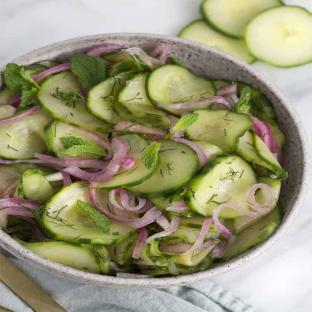Cucumber: (43, 181, 135, 244), (185, 155, 257, 216), (38, 71, 110, 131), (246, 6, 311, 67), (129, 141, 198, 198), (92, 135, 160, 189), (146, 65, 215, 115), (221, 205, 282, 260), (179, 20, 255, 63), (201, 0, 282, 38), (16, 238, 100, 273), (186, 109, 252, 152), (119, 73, 169, 127), (0, 110, 51, 159), (86, 72, 133, 123), (45, 120, 102, 157), (236, 131, 276, 175), (253, 133, 286, 179), (237, 83, 275, 122), (113, 102, 163, 127), (122, 104, 169, 128), (102, 51, 158, 71), (22, 169, 54, 203), (107, 233, 138, 266), (84, 244, 113, 275), (146, 239, 178, 266), (151, 197, 194, 217), (175, 245, 214, 267), (161, 226, 200, 245), (258, 177, 281, 209), (0, 163, 56, 175), (0, 166, 21, 198), (175, 256, 212, 273), (194, 141, 223, 161), (107, 61, 135, 76), (269, 124, 284, 148), (180, 216, 206, 229), (25, 64, 48, 77), (0, 87, 14, 105), (13, 178, 24, 199), (33, 60, 61, 68), (213, 80, 230, 89)
